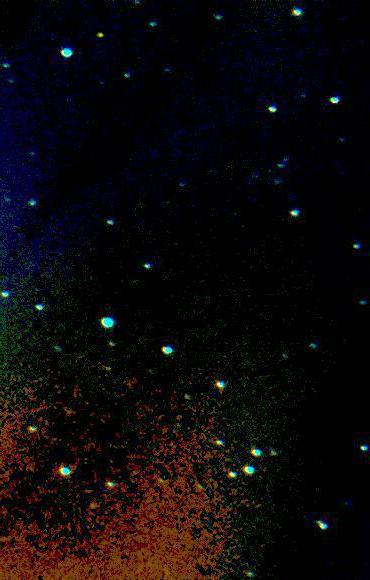star: (87, 20, 117, 50)
